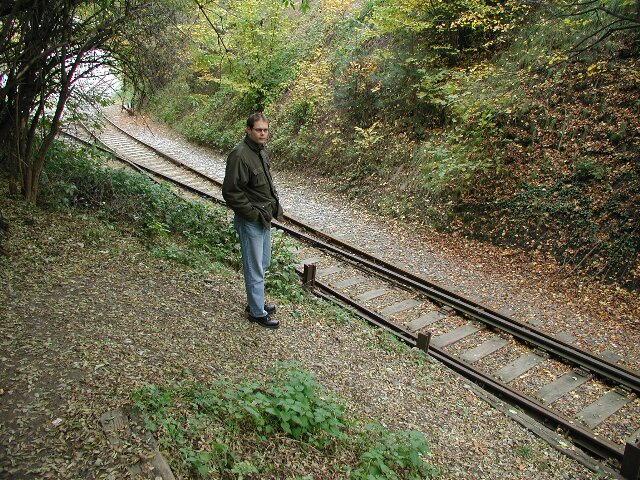person: (223, 109, 298, 334)
